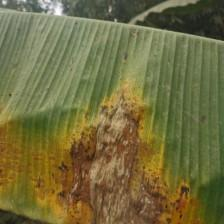pestalotiopsis: (0, 9, 224, 224)
